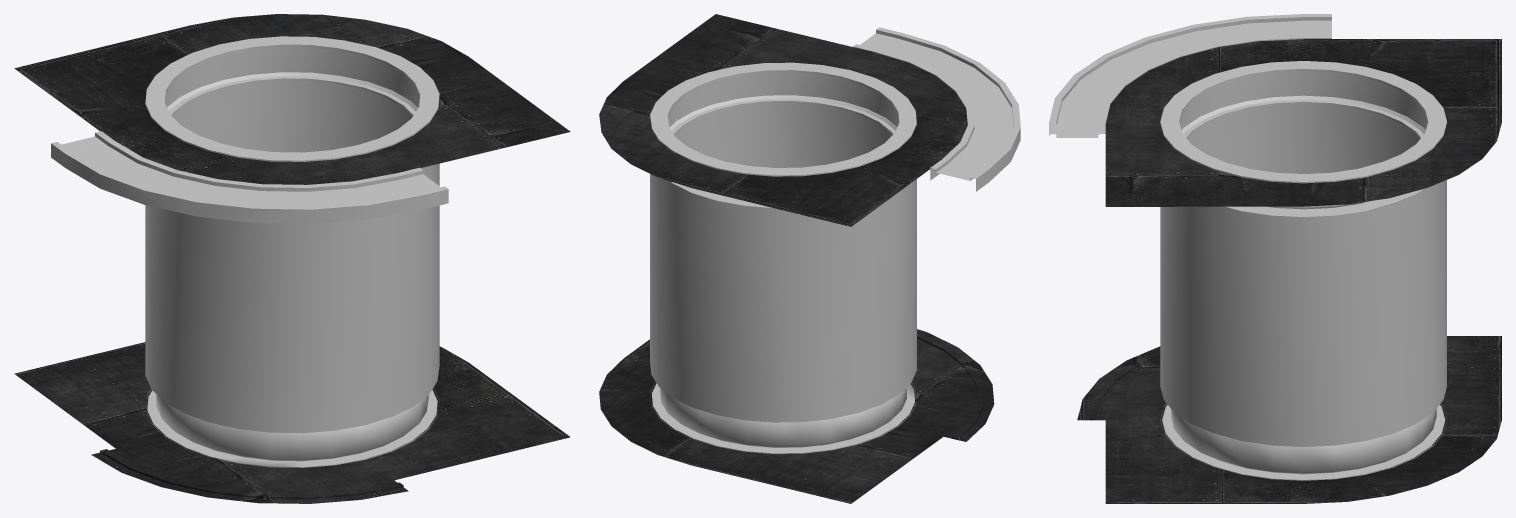
The model's file is tesla_modules_core_cap_01.dae.
The picture shows the model from 3 angles, left to right: view 1: azimuth 30°, elevation 25°; view 2: azimuth 150°, elevation 25°; view 3: azimuth 270°, elevation 25°; orthographic projection. The views are drawn at different scales.
Parts seen in each view (by area): view 1: polySurface504, polySurface502, polySurface505; view 2: polySurface504, polySurface502, polySurface505; view 3: polySurface504, polySurface502, polySurface505.
Boxes of the visible parts, left/top/right/bottom form: polySurface504: left=145, top=80, right=439, bottom=433; polySurface502: left=14, top=14, right=570, bottom=503; polySurface505: left=51, top=36, right=448, bottom=467; polySurface504: left=650, top=102, right=916, bottom=422; polySurface502: left=599, top=14, right=994, bottom=503; polySurface505: left=650, top=27, right=1020, bottom=453; polySurface504: left=1160, top=104, right=1446, bottom=446; polySurface502: left=1077, top=39, right=1501, bottom=503; polySurface505: left=1049, top=14, right=1446, bottom=480.
Size of the model in its own units: 4 by 2.92 by 4.
